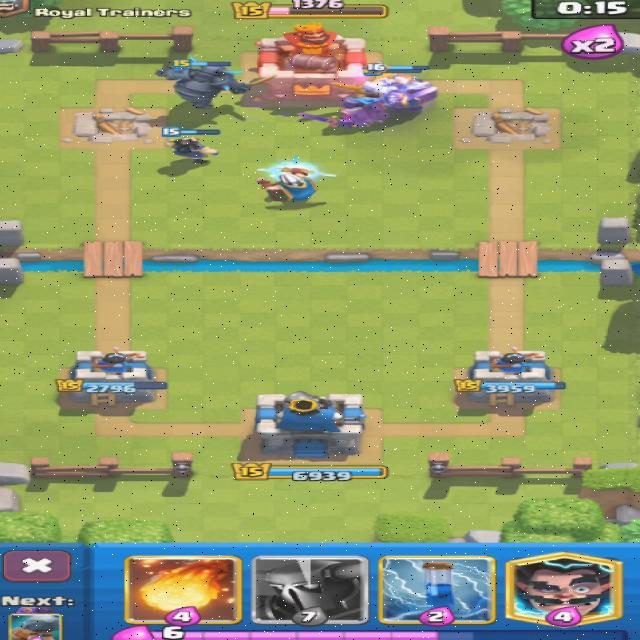Enemy-KingTower-Activated: (257, 20, 366, 105)
Player-ElectroWizard: (163, 128, 218, 163)
Player-KingTower-Activated: (254, 391, 364, 458)
Player-MagicArcher: (256, 157, 335, 201)
Player-PEKKA: (155, 55, 274, 109)
Player-PrincessTower: (454, 348, 564, 406), (58, 348, 165, 405)
Player-RoyalGhost-Evo: (363, 73, 436, 110)
Player-RoyalGhost-Minion: (300, 97, 387, 129)
